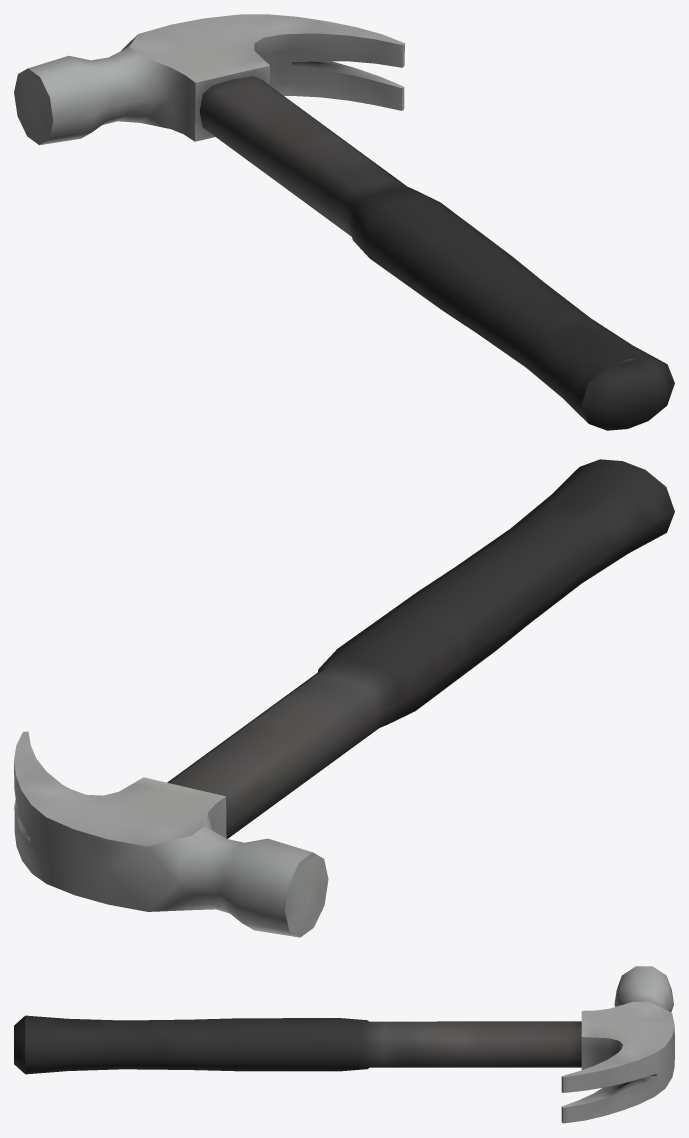
File: SM_Hummer_2_266b62.glb
The picture shows the model from 3 angles, top to bottom: view 1: azimuth 30°, elevation 25°; view 2: azimuth 150°, elevation 25°; view 3: azimuth 270°, elevation 25°; orthographic projection. The views are drawn at different scales.
Size of the model in its own units: 0.125 by 0.028 by 0.3241.
Materials: 1 (1 with a texture image).
